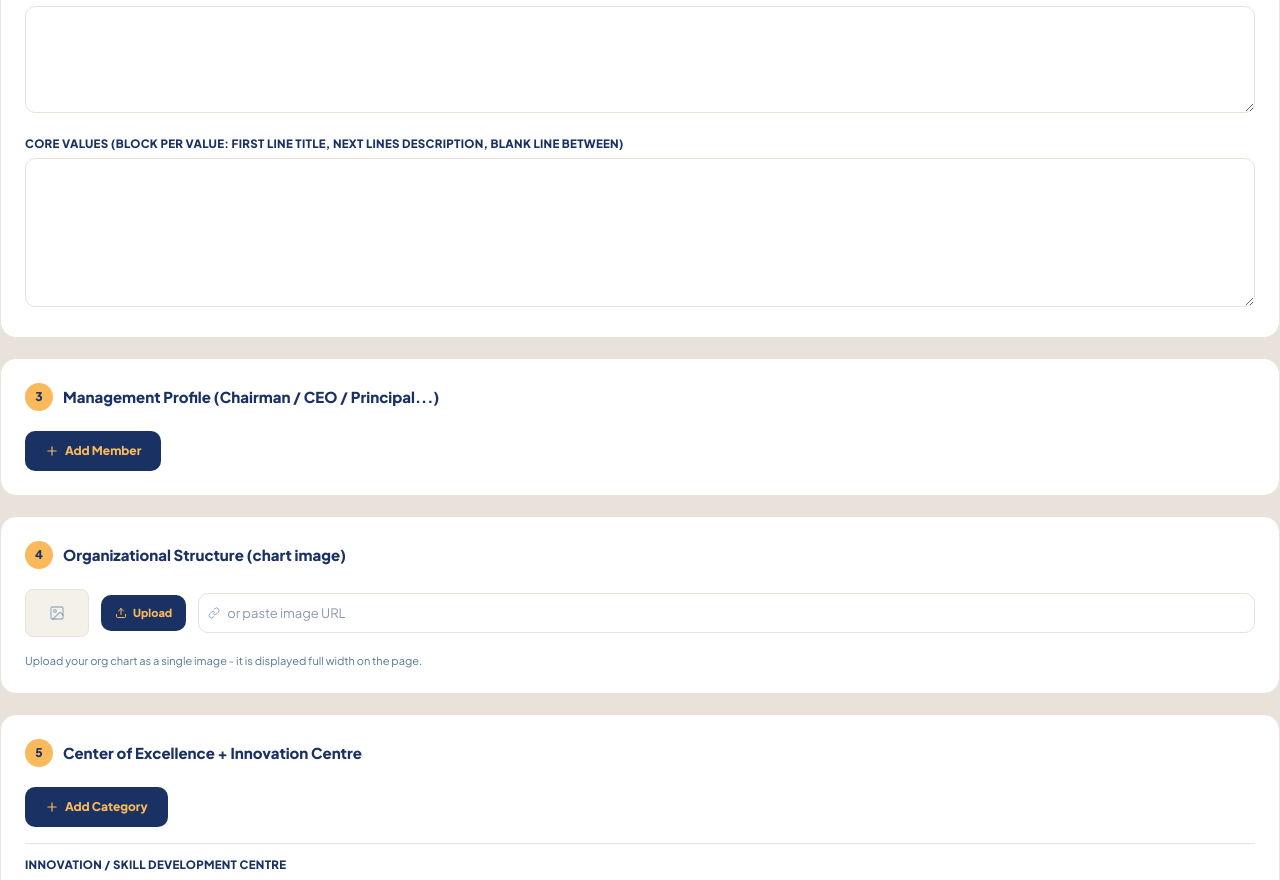
it: AboutPagesAdmin › adds and removes management members
(page scrolled)
Click the button "Add Member".
click(93, 451)  # box [25,431,161,471]
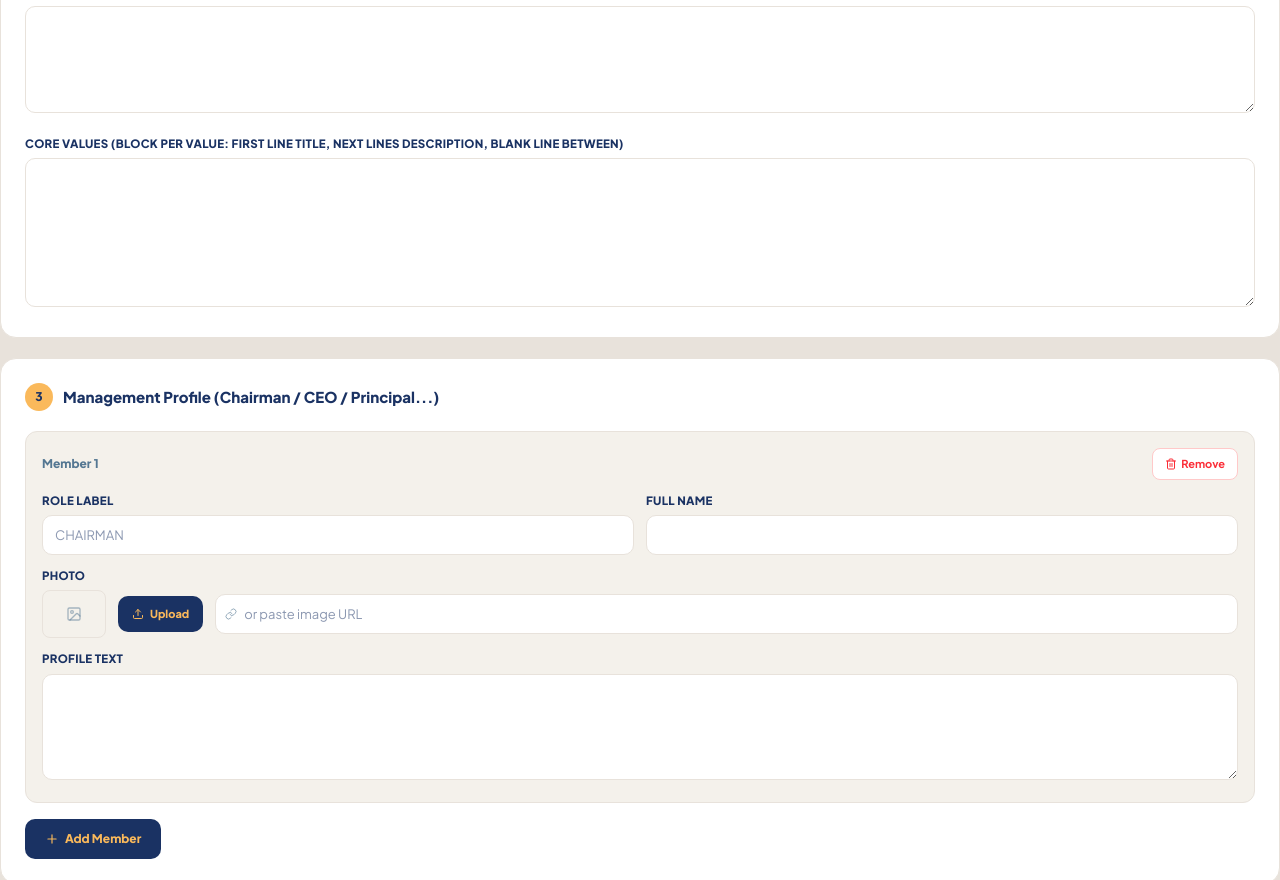
Expected: the text "Member 1" is shown, [42,455,99,473]
Click the button "Add Member".
click(93, 839)  # box [25,819,161,859]
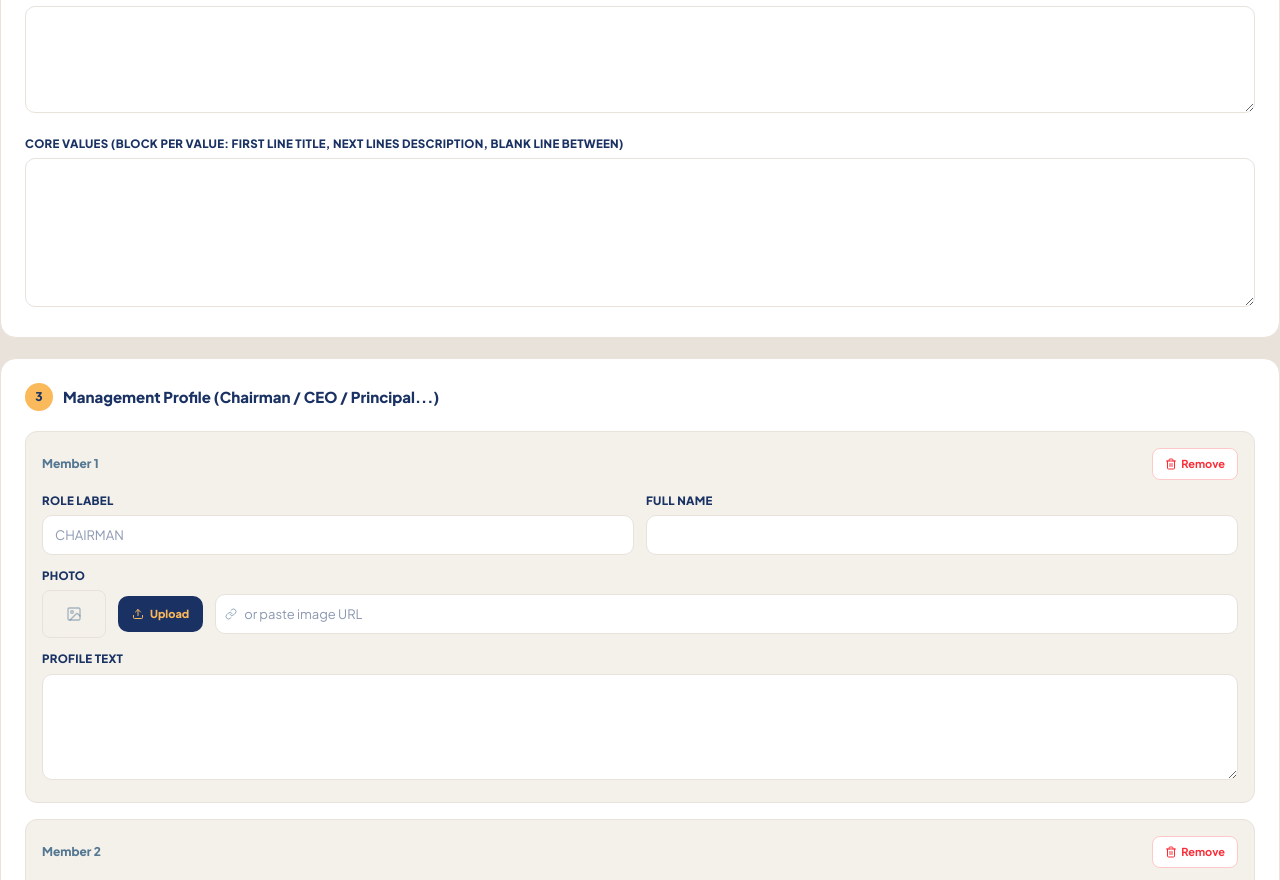
Result: the text "Member 2" is shown at [42,843,101,861]
Click the 1st button "Remove".
click(1195, 464)  # box [1152,448,1238,480]
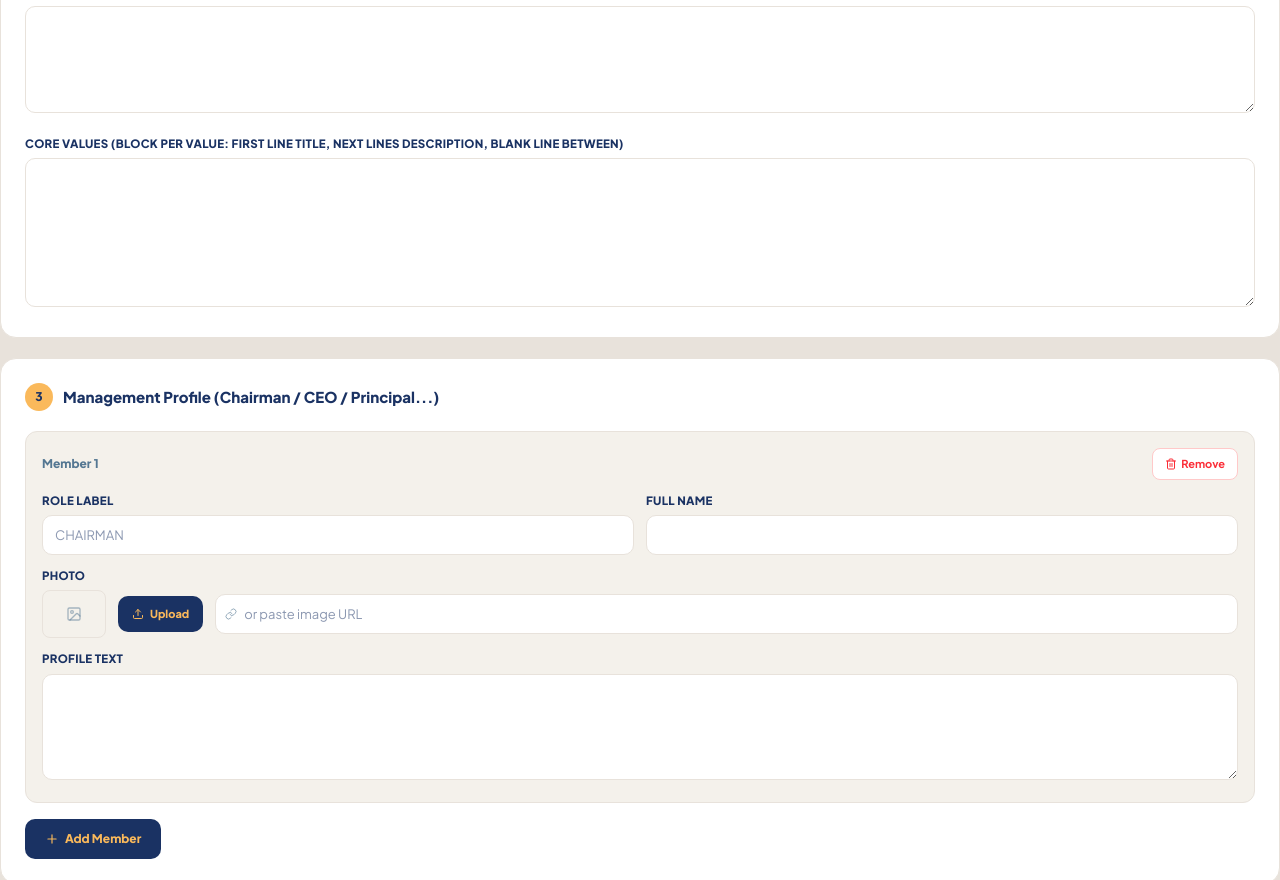
Result: the text "Member 2" is gone
